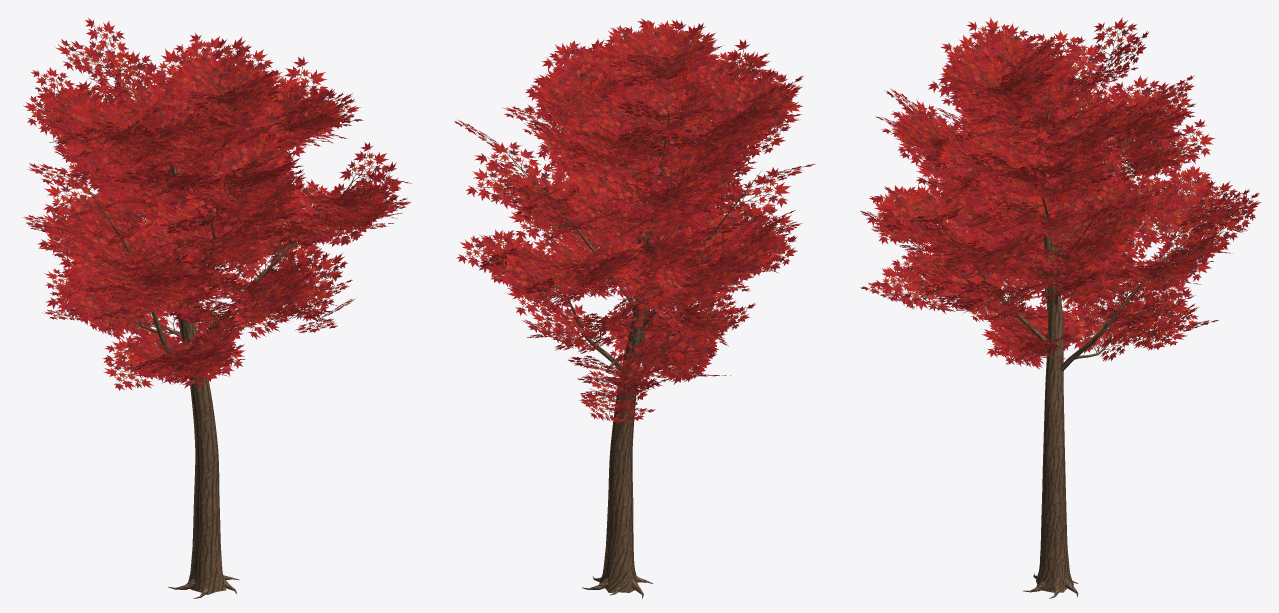
Rendered from corealm_maple_1.glb.
3 renders of one model, left to right at view 1: azimuth 30°, elevation 25°; view 2: azimuth 150°, elevation 25°; view 3: azimuth 270°, elevation 25°, orthographic. The views are drawn at different scales.
Visible parts, largest first — view 1: corealm_maple_1; view 2: corealm_maple_1; view 3: corealm_maple_1.
Boxes of the visible parts, <box> form: corealm_maple_1: <box>22,18,411,598</box>; corealm_maple_1: <box>454,18,815,598</box>; corealm_maple_1: <box>860,17,1261,598</box>.
Bounding box in the file's own units: 6.22 × 9.87 × 6.96.
2 materials, 2 textured.
